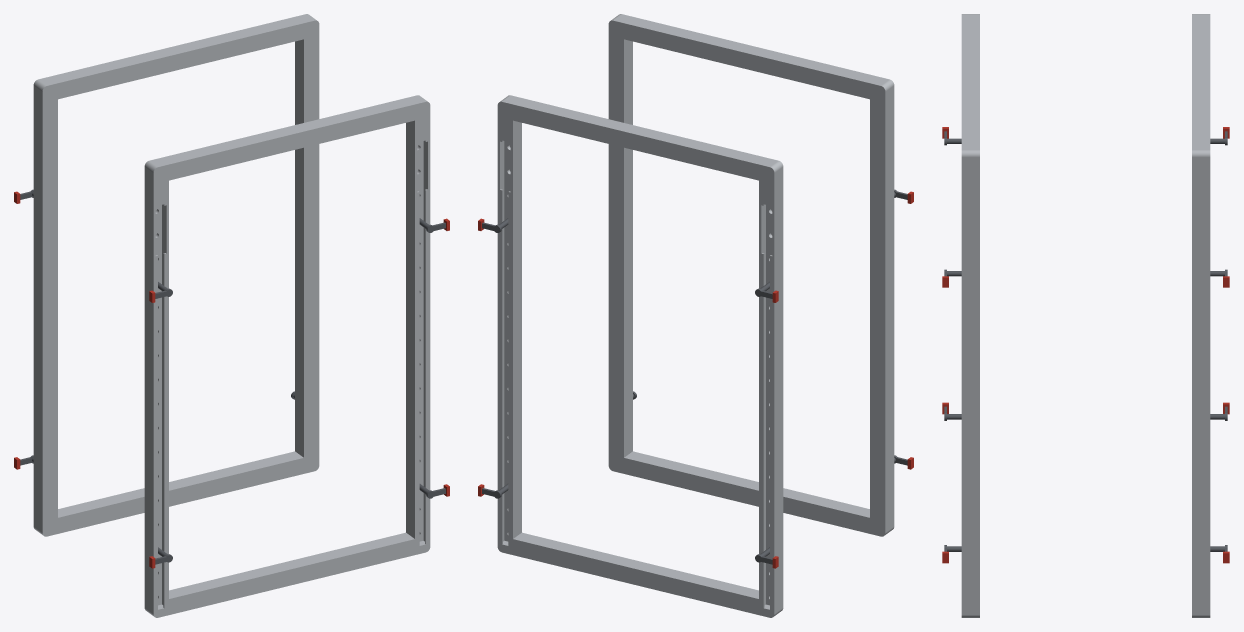
The model's file is b_suitcase.glb.
3 views of the same model, side by side, from view 1: azimuth 30°, elevation 25°; view 2: azimuth 150°, elevation 25°; view 3: azimuth 270°, elevation 25° (orthographic). The views are drawn at different scales.
Visible parts, largest first — view 1: ring_front, ring_back; view 2: ring_back, ring_front; view 3: ring_front, ring_back.
Boxes of the visible parts, box(x1,y1,x2,y2) form: ring_front: box(144, 95, 430, 617); ring_back: box(33, 14, 319, 536); ring_back: box(497, 95, 783, 617); ring_front: box(608, 14, 894, 536); ring_front: box(961, 14, 979, 617); ring_back: box(1192, 14, 1210, 617).
Bounding box in the file's own units: 0.387 × 0.56 × 0.3116.
